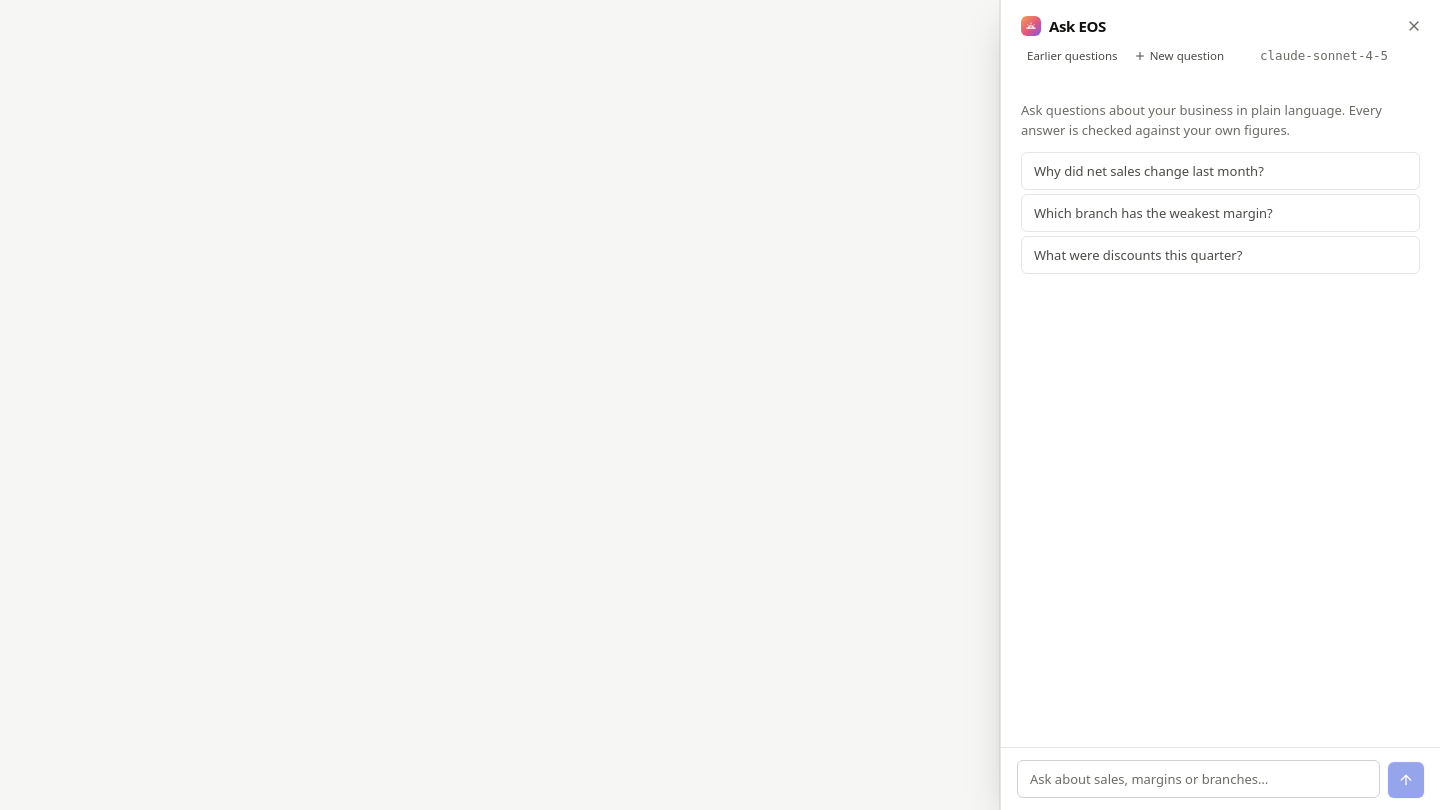
answer panel › streams text, shows the lookups and marks the answer as checked
Type "What were net sales in March?" into the text box labelled "Ask about sales, margins or branches…".
click(1198, 779); type("What were net sales in March?")  # box 1017,760 -> 1380,798
Then press Enter
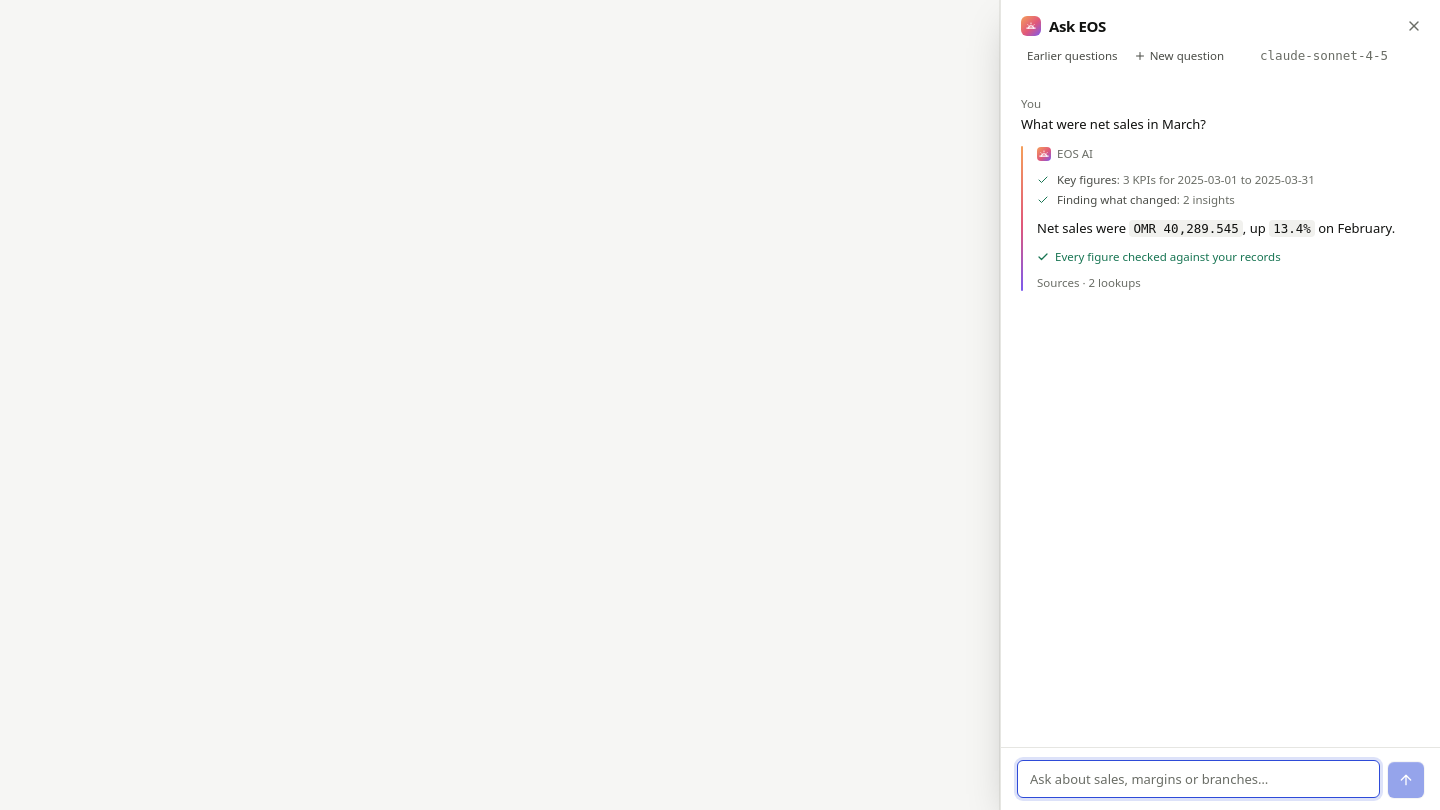
Check: the list named "Looking up" shows "Key figures: 3 KPIs for 2025-03-01 to 2025-03-31", box 1037,172 -> 1315,207
Check: the list named "Looking up" shows "Finding what changed: 2 insights", box 1037,172 -> 1315,207
Check: the text "Every figure checked against your records" is shown, box 1037,249 -> 1281,264
